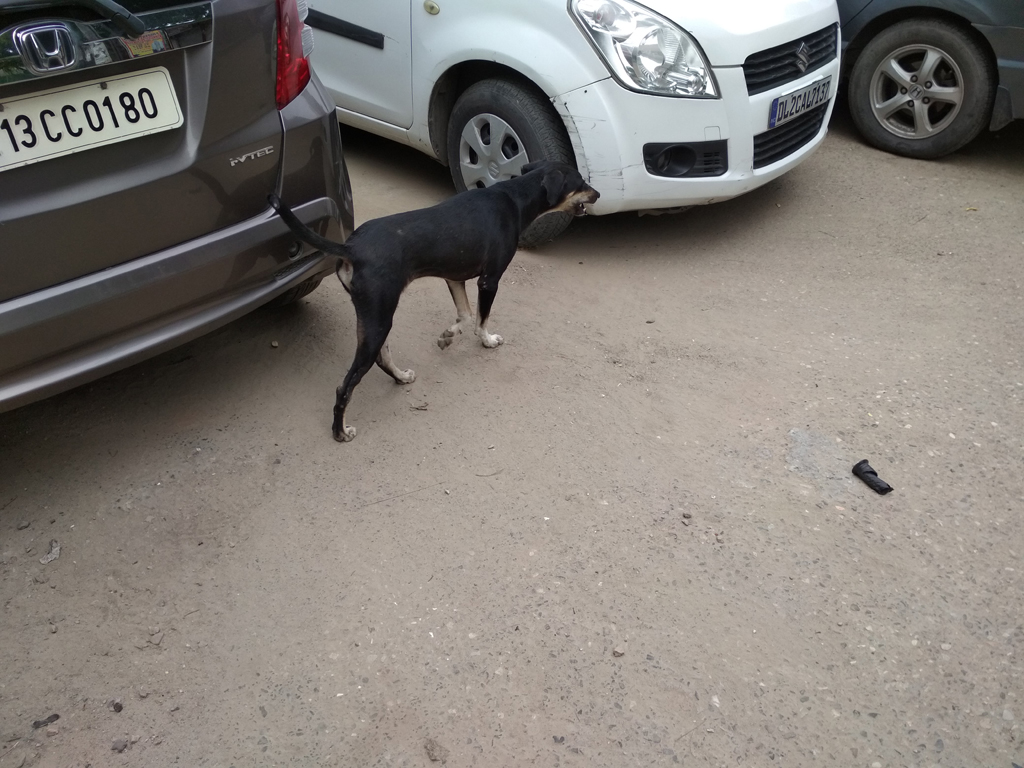dog: (267, 157, 600, 443)
